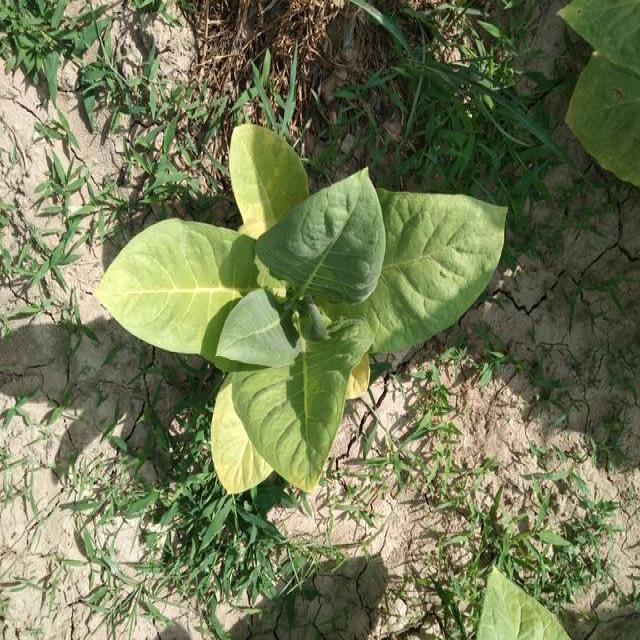crop: (98, 116, 518, 503)
